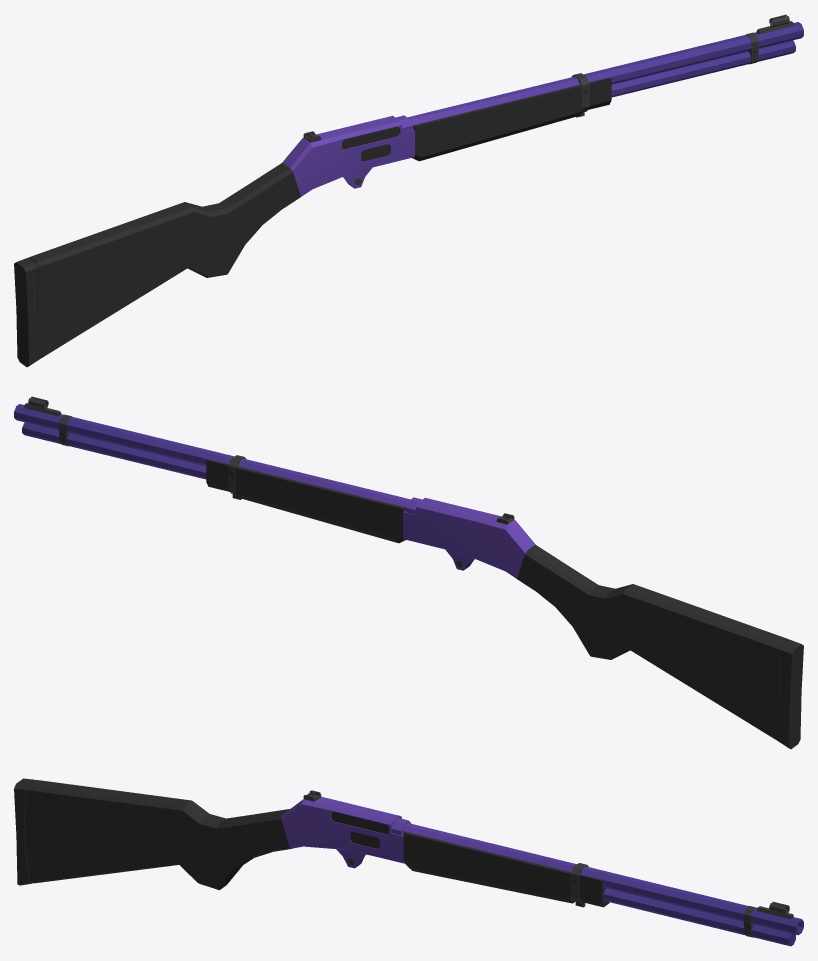
File: SniperRifle5_05.fbx
3 renders of one model, top to bottom at view 1: azimuth 30°, elevation 25°; view 2: azimuth 150°, elevation 25°; view 3: azimuth 330°, elevation 25°, orthographic.
Visible parts, largest first — view 1: SniperRifle5_05; view 2: SniperRifle5_05; view 3: SniperRifle5_05.
Part boxes in pixels (x1,y1,x2,y2): SniperRifle5_05: (14,14,803,367); SniperRifle5_05: (14,396,803,749); SniperRifle5_05: (14,778,803,946).
Size of the model in its own units: 1.15 by 0.2304 by 0.03.
